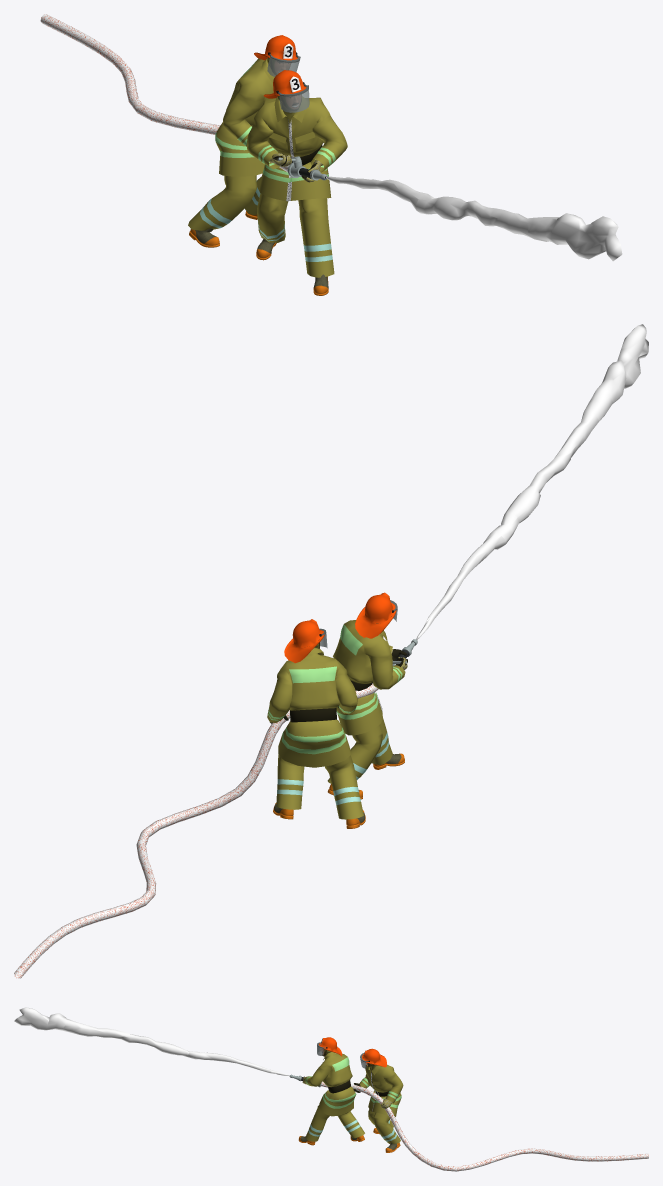
File: firemen2.dae
The picture shows the model from 3 angles, top to bottom: view 1: azimuth 30°, elevation 25°; view 2: azimuth 150°, elevation 25°; view 3: azimuth 270°, elevation 25°; orthographic projection. The views are drawn at different scales.
Parts seen in each view (by area): view 1: group_1 (×11), group_2; view 2: group_1 (×8), group_2; view 3: group_1 (×7), group_2.
Boxes of the visible parts, <box> form: group_1 (×11): <box>40,14,347,277</box>; group_2: <box>326,176,622,261</box>; group_1 (×8): <box>14,592,398,978</box>; group_2: <box>416,324,648,639</box>; group_1 (×7): <box>307,1048,648,1171</box>; group_2: <box>14,1007,289,1075</box>.
Bounding box in the file's own units: 31.88 × 202 × 48.32.
